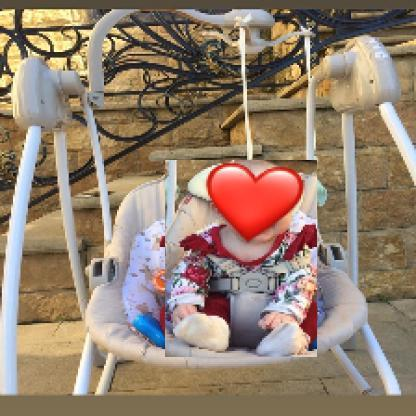child: (166, 161, 319, 359)
